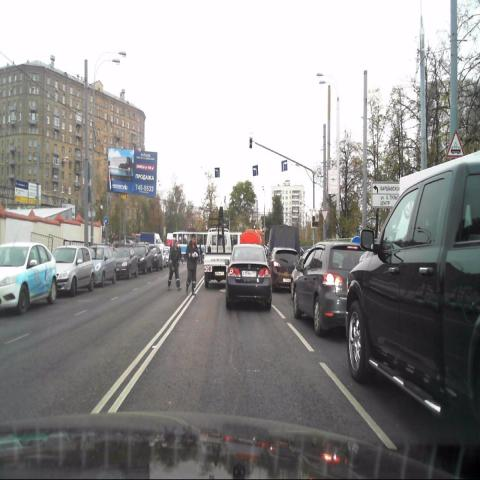1_5: (446, 130, 464, 158)
